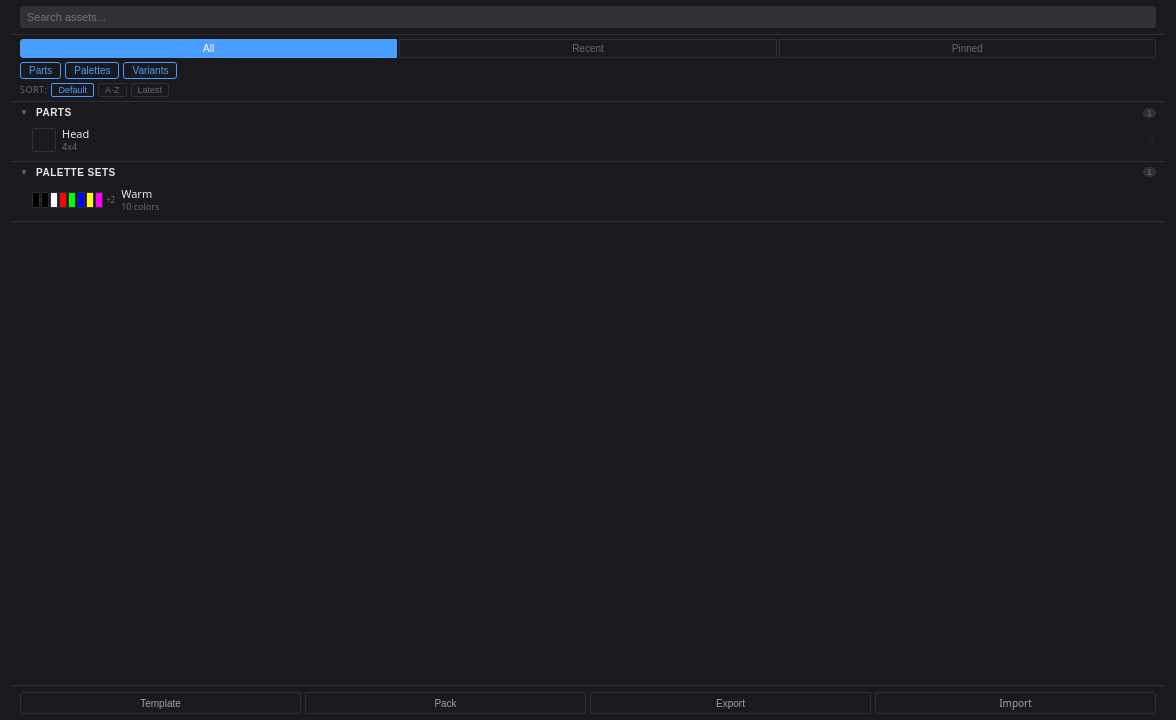
LibraryPanel › type filter toggles work
The width and height of the screenshot is (1176, 720).
Click the button with test id "lib-filter-part" at (41, 70), box 20,62 -> 61,79
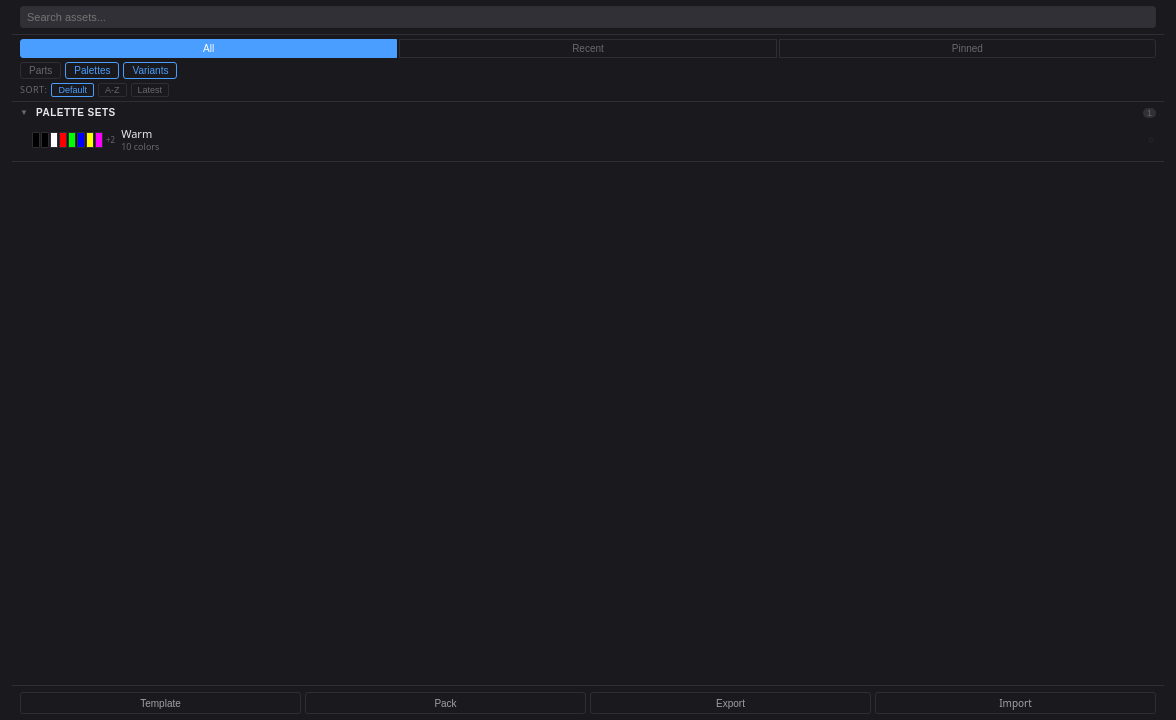
Expected: the element with test id "lib-section-palette-sets" is shown, 12,102 -> 1164,162
Result: the element with test id "lib-section-parts" is gone
